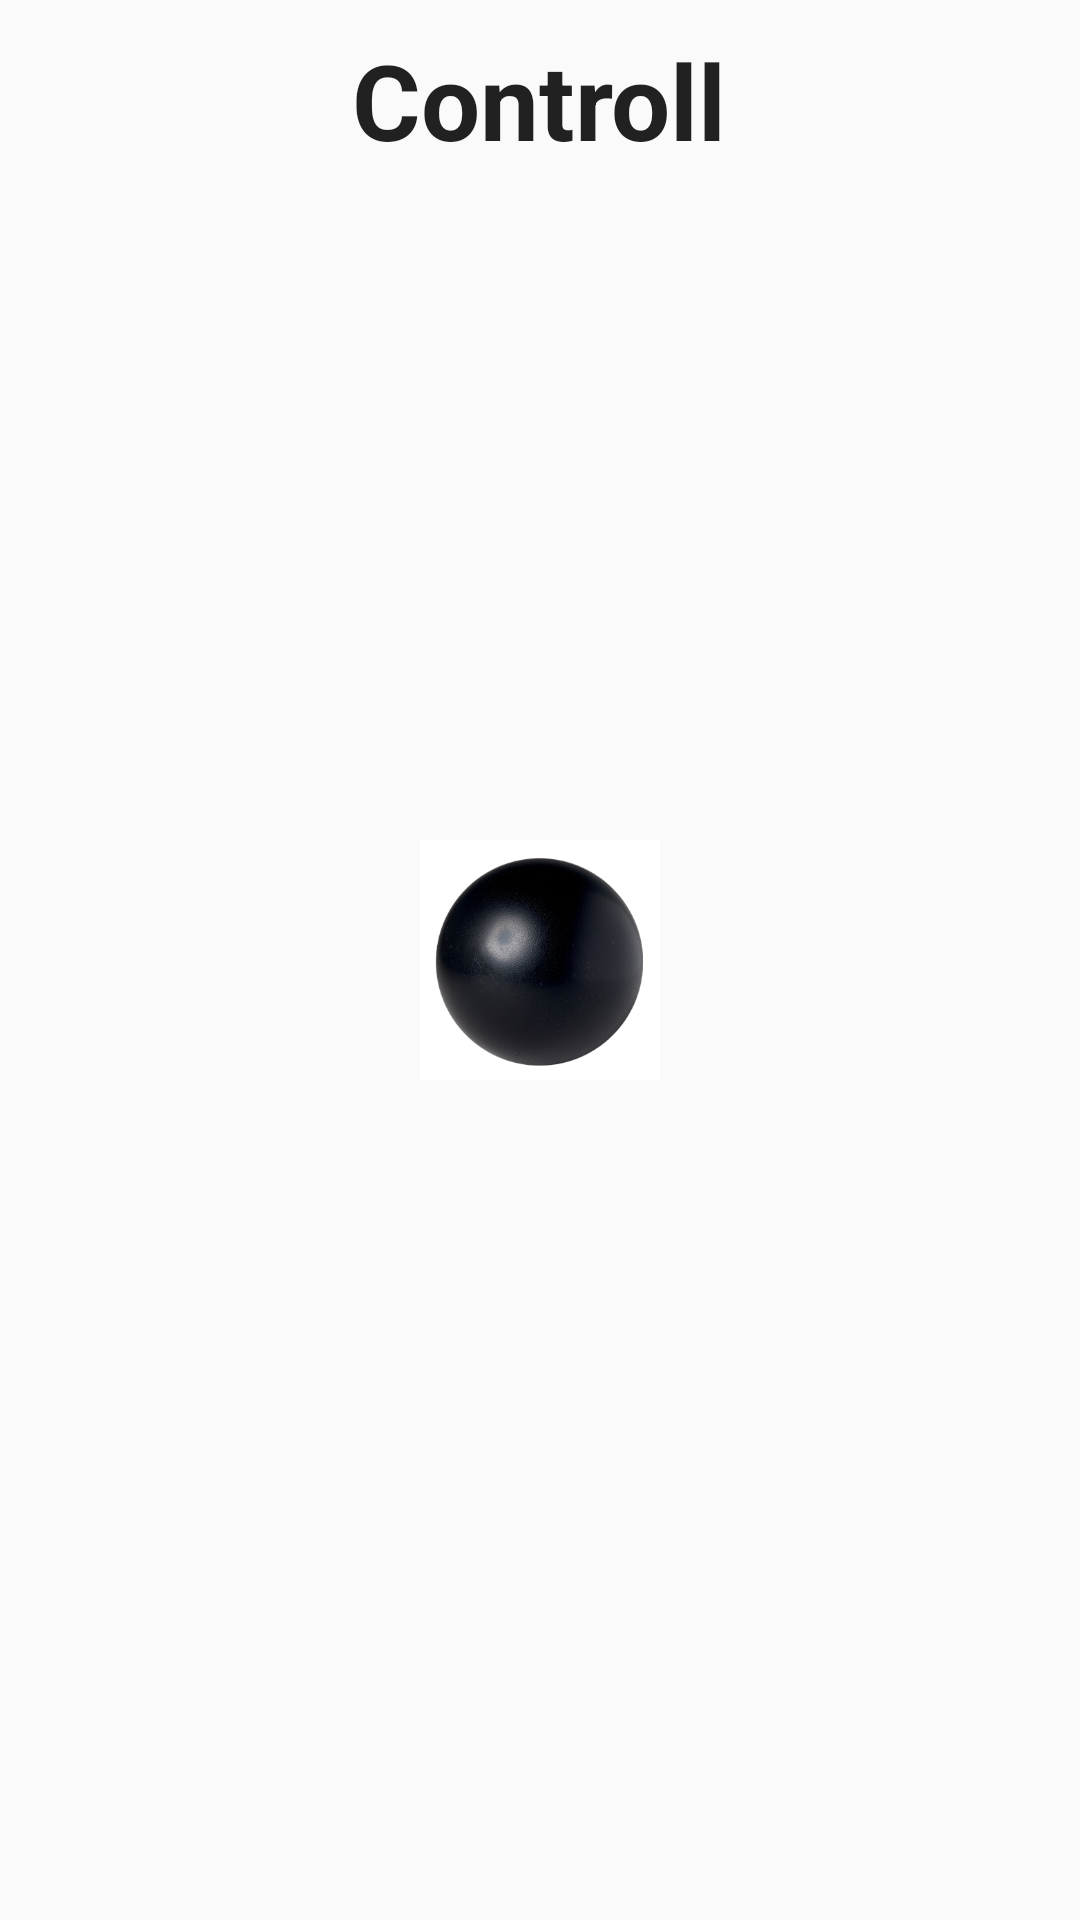

Locate icon controls on the screen. Image size 1080px x 1920px, boxes as (x1, y1, x2, y2).
ball: (436, 858, 643, 1066)
